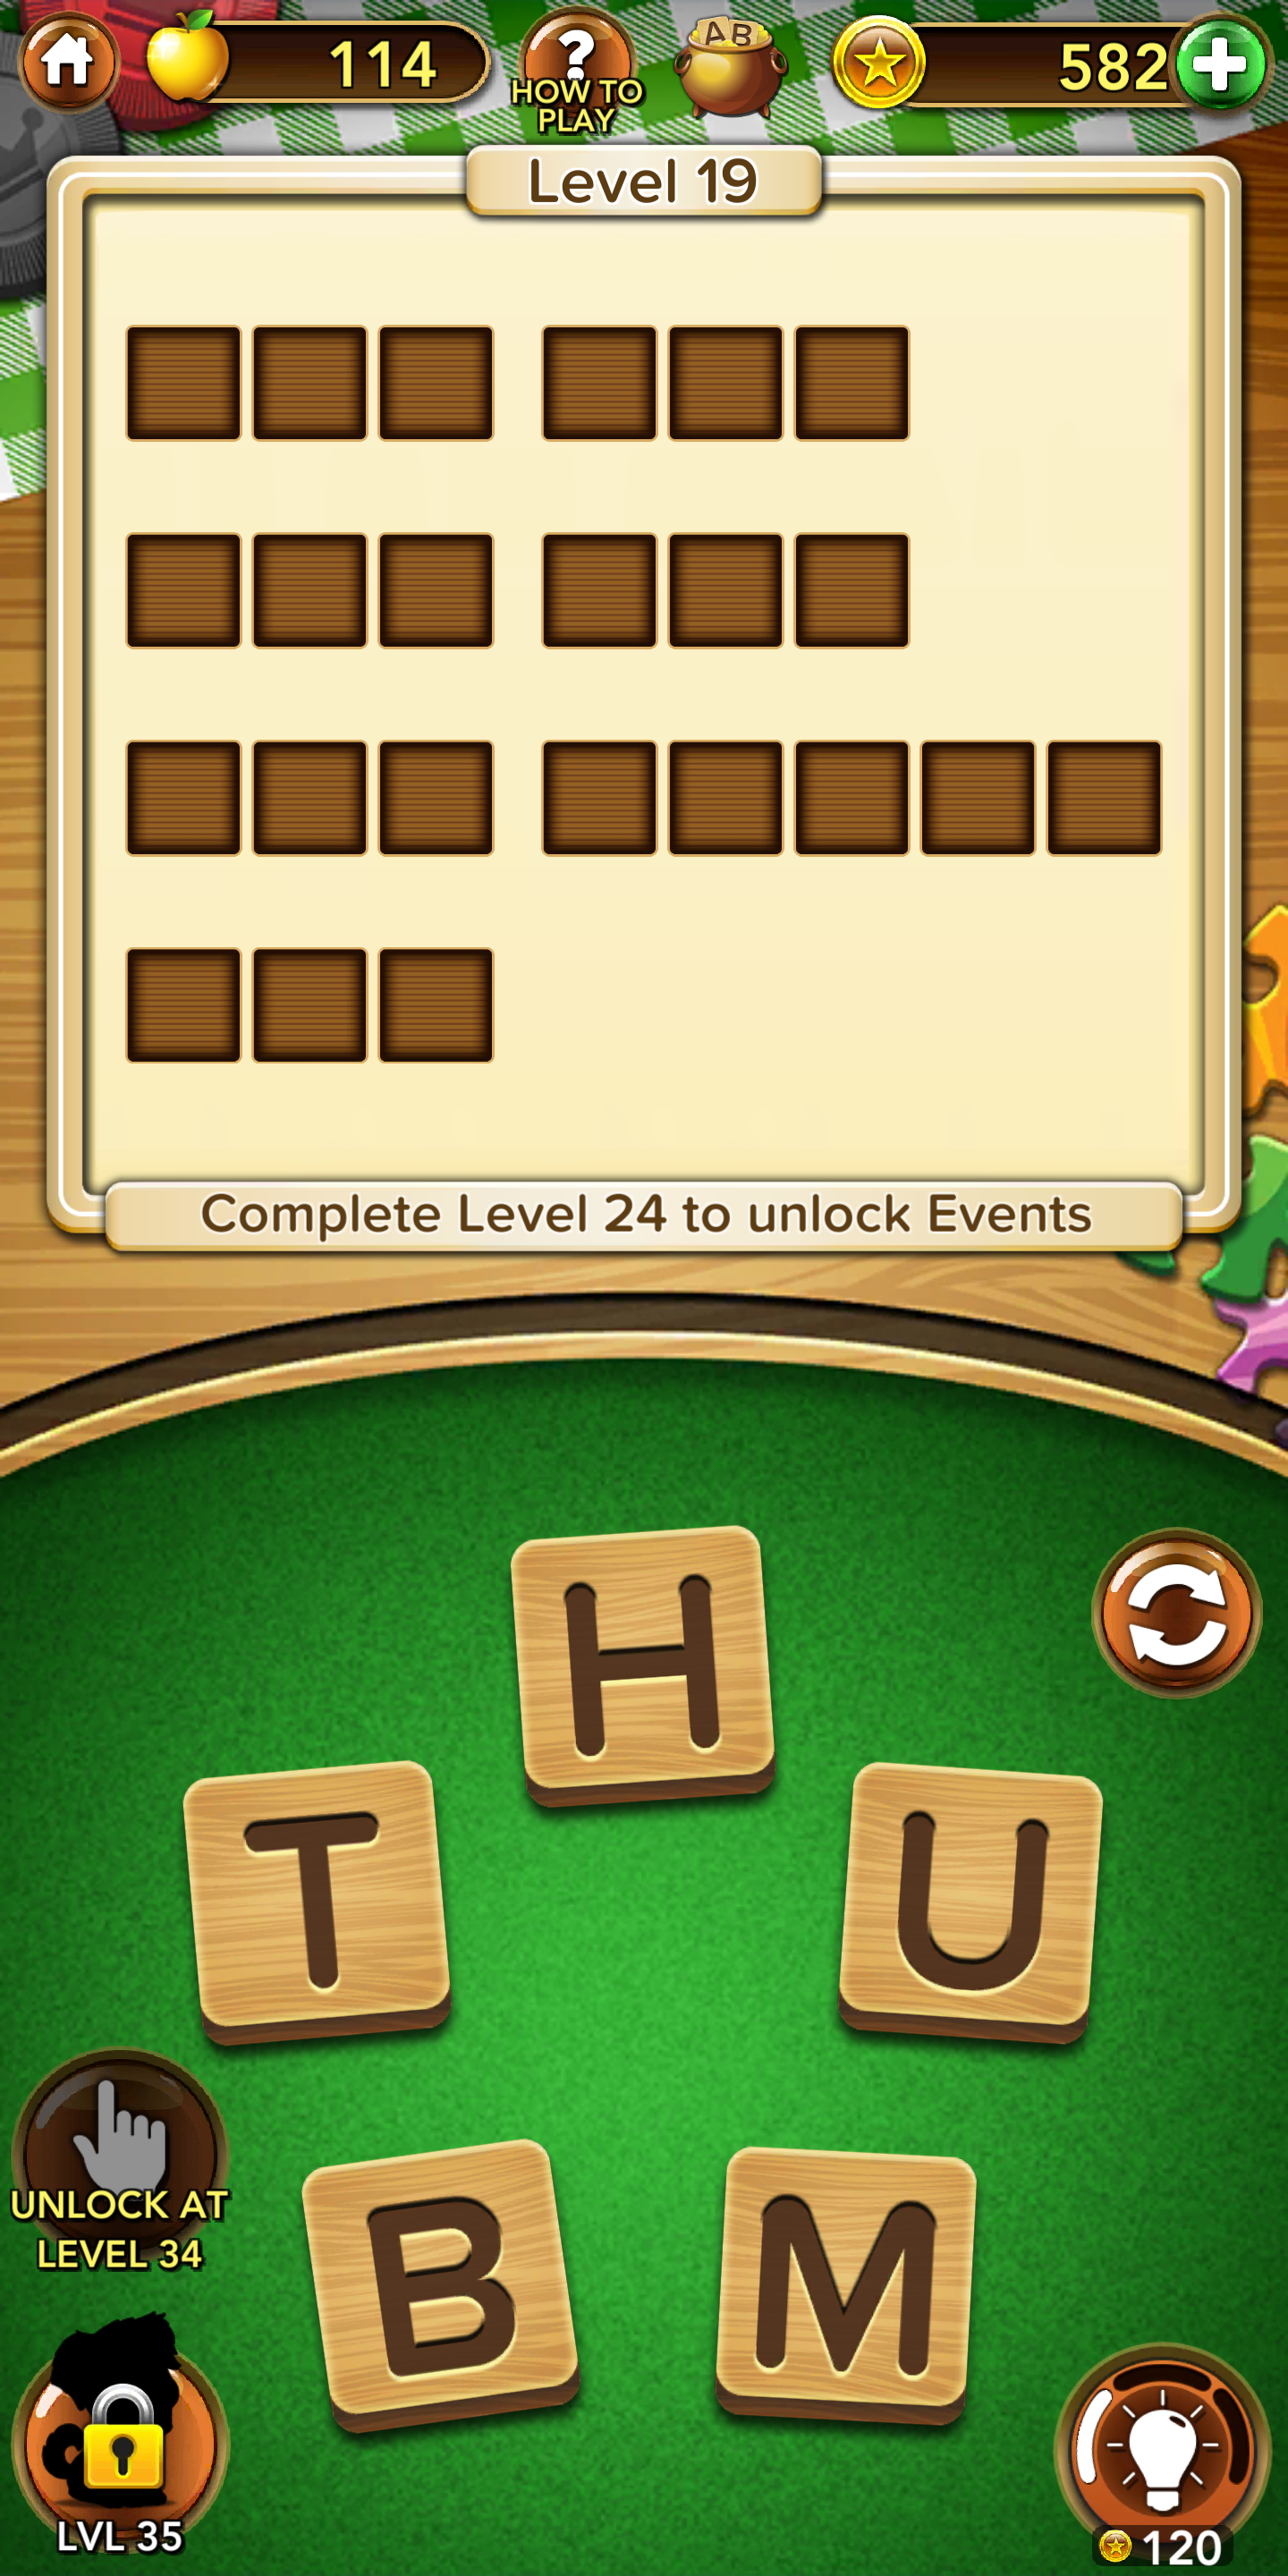tile: (301, 2137, 580, 2433), (181, 1759, 453, 2049), (839, 1759, 1104, 2047), (509, 1526, 775, 1810), (718, 2142, 978, 2430)
